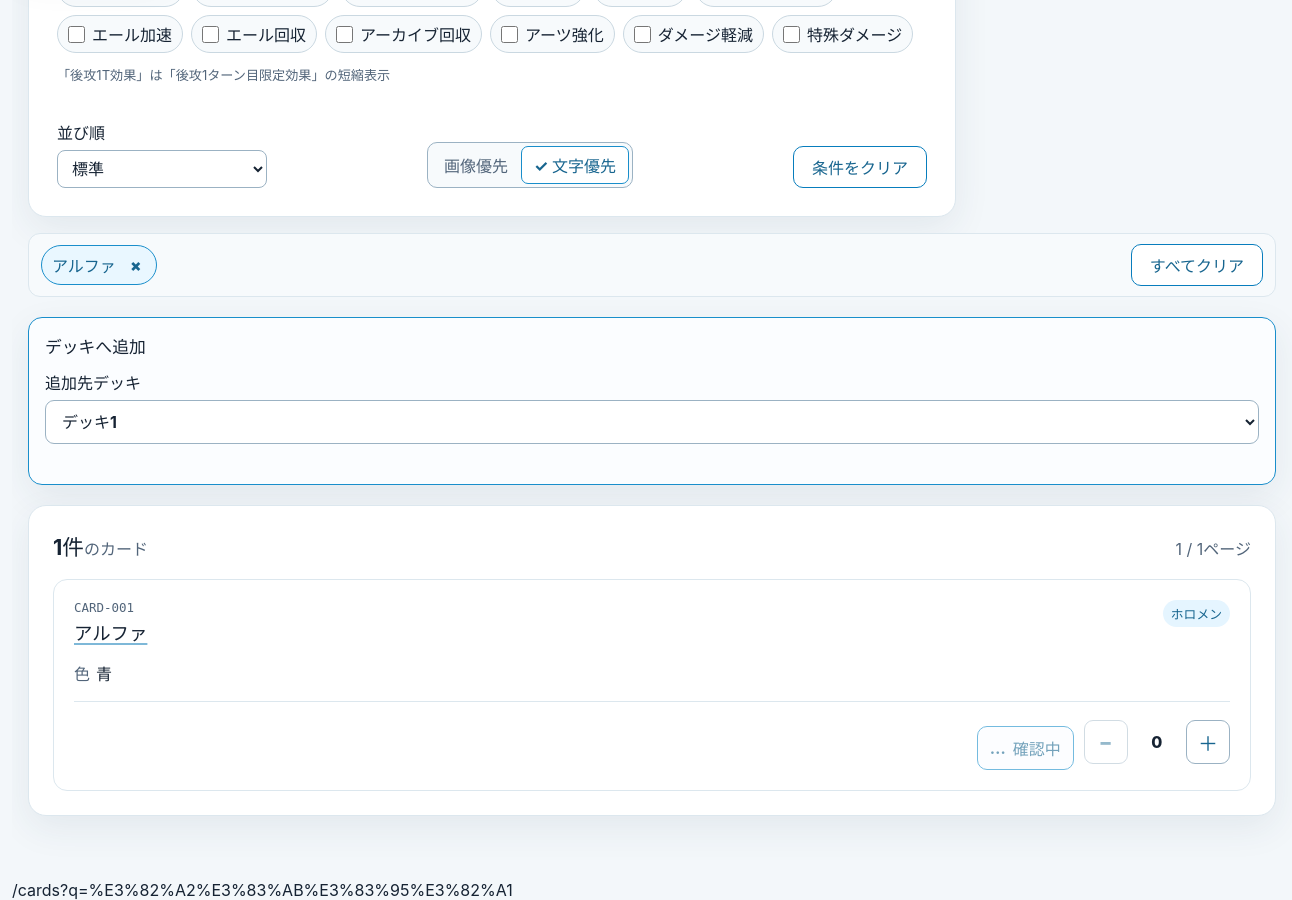
CardSearchPage deck quick add › keeps add, increment, decrement, and quantity controls in text mode
(page scrolled)
Expected: the dropdown labelled "追加先デッキ" shows "デッキ1", [45,400,1259,444]
Expected: the text named "現在 0枚" is shown, [1151,732,1162,752]
Click the button named "アルファを1枚追加" at point(1208, 742), box [1186,720,1230,764]
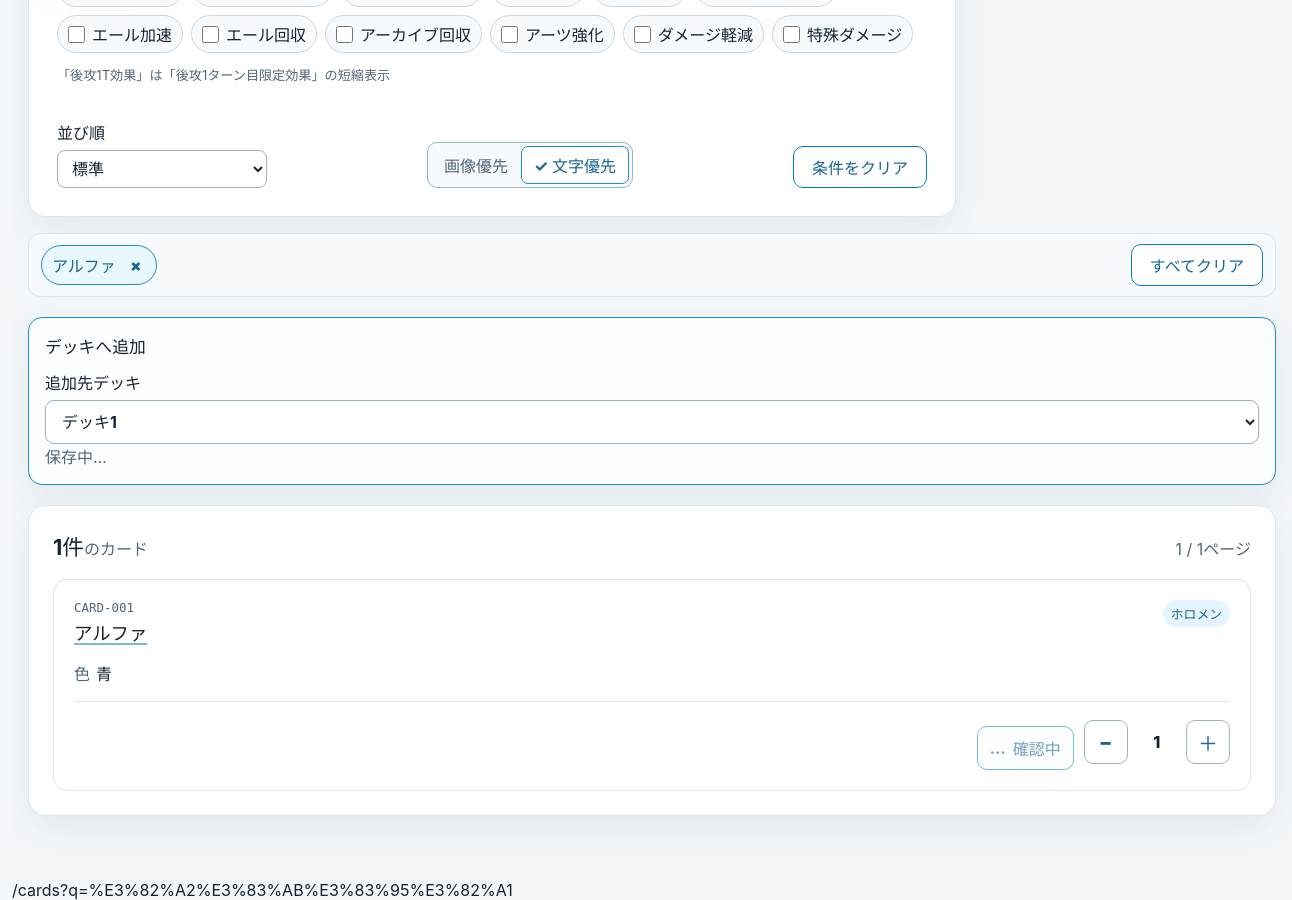
Result: the text named "現在 1枚" is shown at [1153,732,1160,752]
Click the button named "アルファを1枚追加" at point(1208, 742), box [1186,720,1230,764]
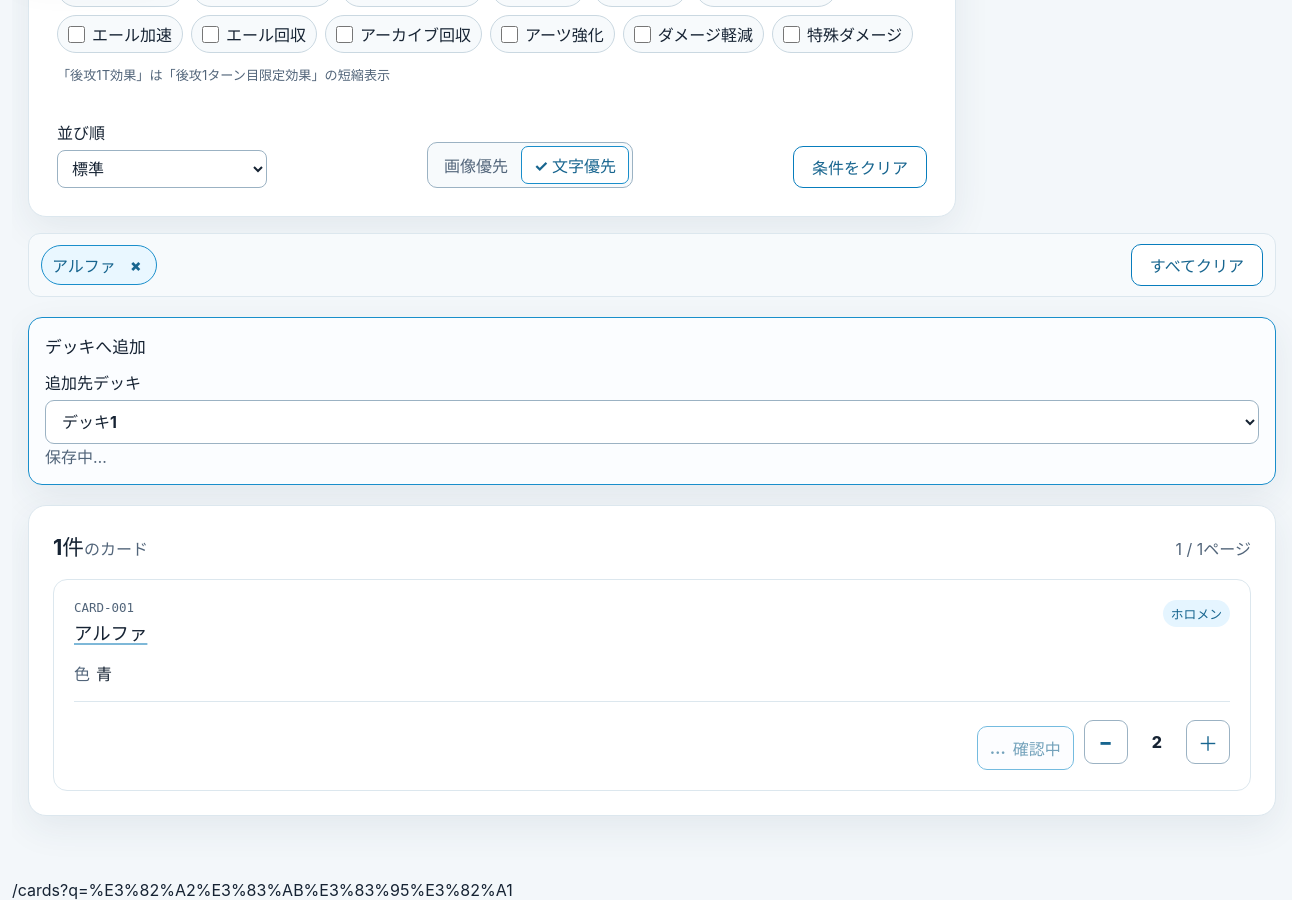
Result: the text named "現在 2枚" is shown at [1152,732,1162,752]
Click the button named "アルファを1枚減らす" at point(1106, 742), box [1084,720,1128,764]
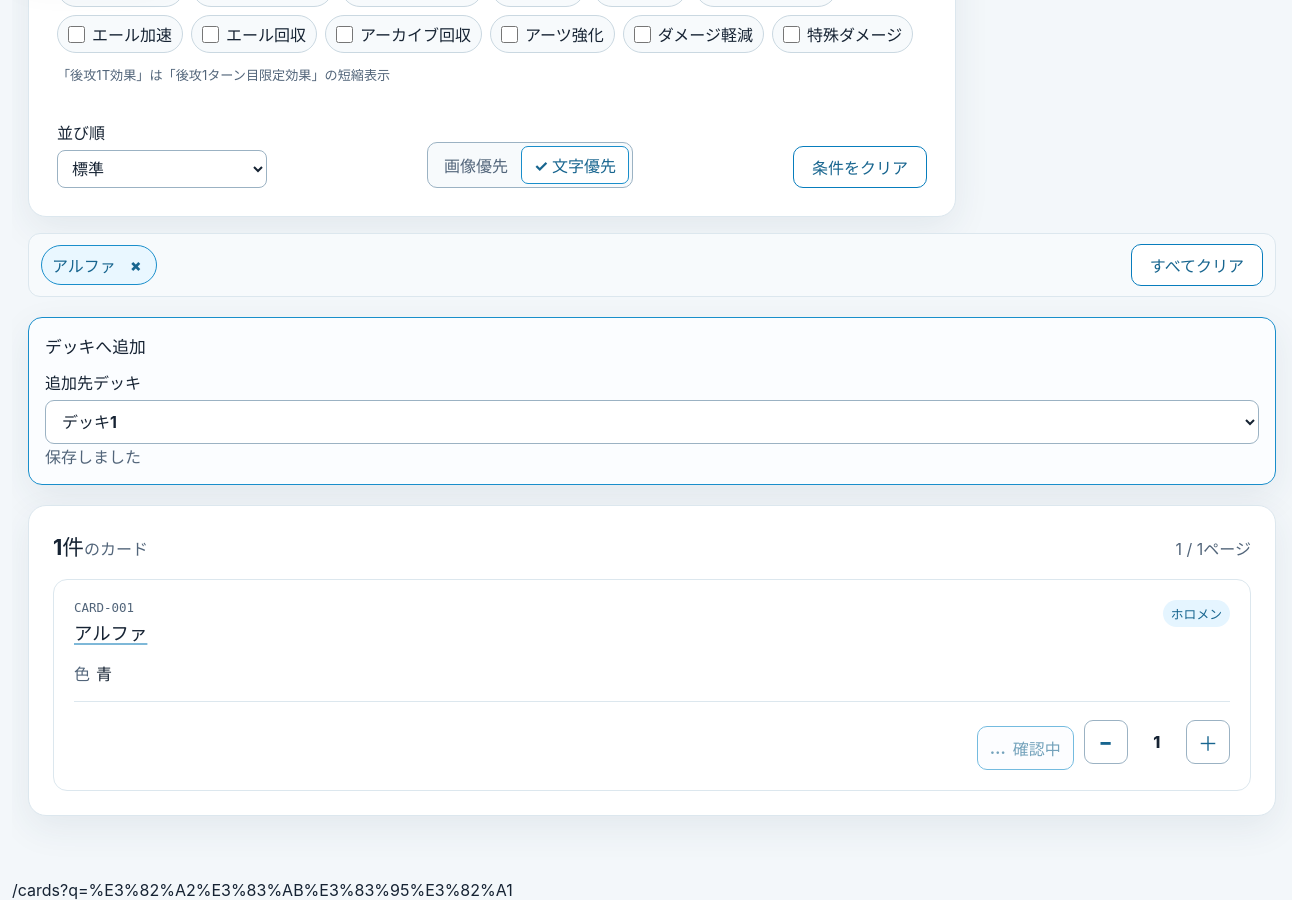
Result: the text named "現在 1枚" is shown at [1153,732,1160,752]
